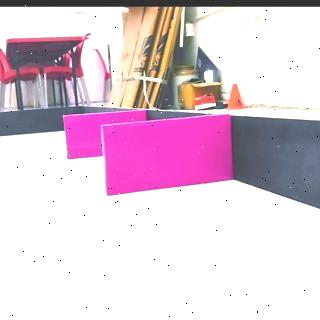xparking: (102, 124, 228, 190), (64, 114, 98, 158)
